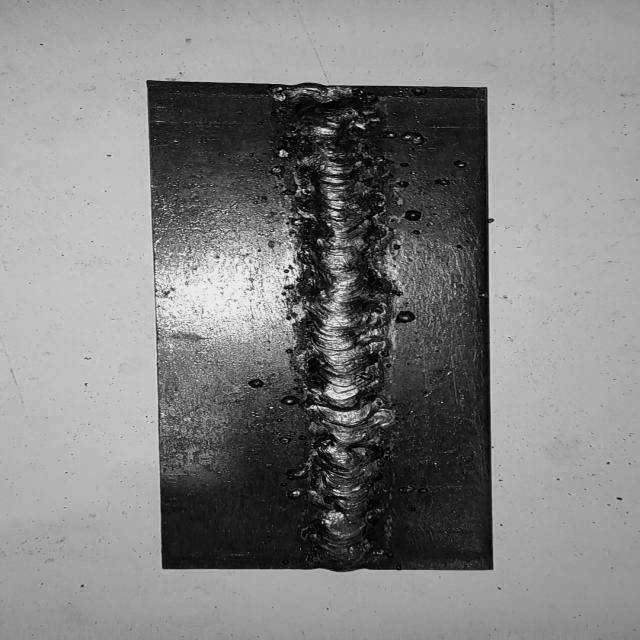Bad Weld: (297, 92, 381, 564)
Defect: (279, 87, 391, 176)
